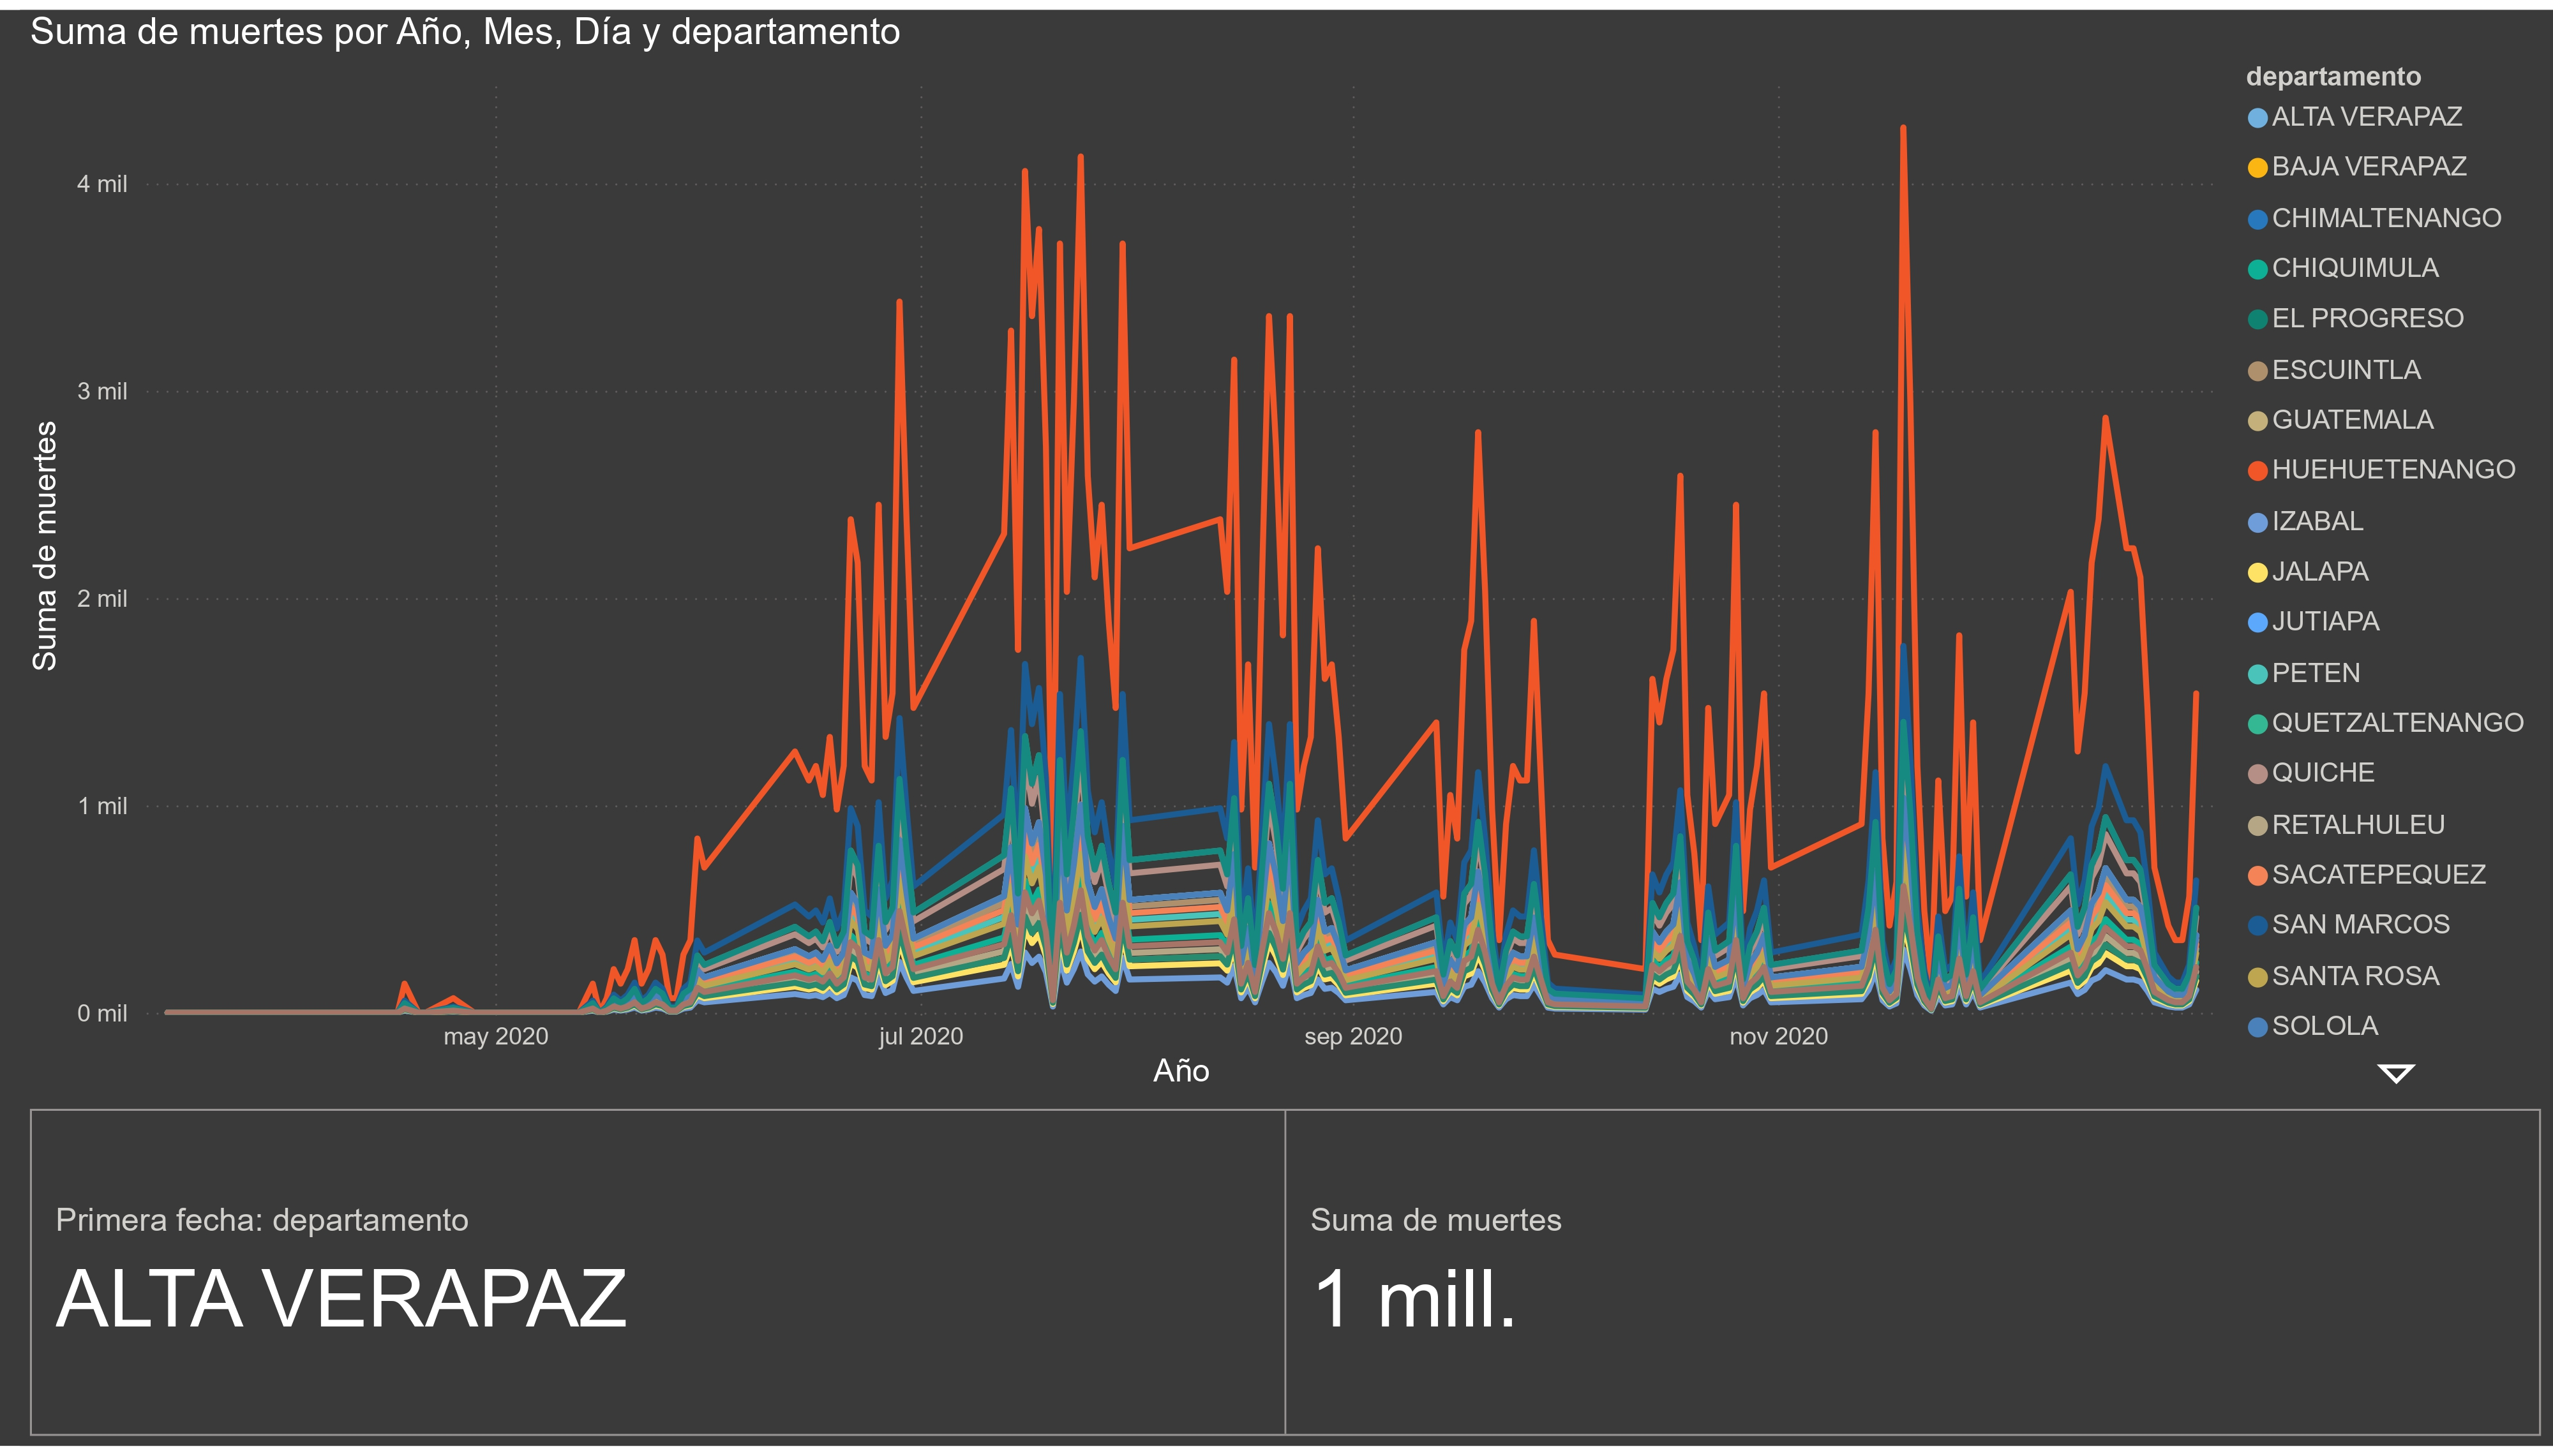

The dashboard page shown, as its layout file describes it:
{"tool":"powerbi","page":{"name":"Página 5","canvas":[1280,720],"ordinal":4},"visuals":[{"type":"lineChart","fields":{"Y":["Sum(DatosCovid.muertes)"],"Category":["DatosCovid.fecha.Variación.Jerarquía de fechas.Año","DatosCovid.fecha.Variación.Jerarquía de fechas.Mes","DatosCovid.fecha.Variación.Jerarquía de fechas.Día"],"Series":["Departamento.departamento"]},"box":[10.1,0,1270.1,545.8],"z":0},{"type":"cardVisual","fields":{"Data":["Min(Departamento.departamento)","Sum(DatosCovid.muertes)"]},"box":[10,546,1270,174],"z":1}]}

Visuals, with their boxes in screenshot pixels (x1, y1, x2, y2), scaled from the page's 1280x720 canvas onto the 2553x1456 screenshot:
lineChart - Sum(DatosCovid.muertes) x DatosCovid.fecha.Variación.Jerarquía de fechas.Año: BBox(20, 0, 2552, 1104)
cardVisual - Min(Departamento.departamento) x Sum(DatosCovid.muertes): BBox(20, 1104, 2552, 1455)
